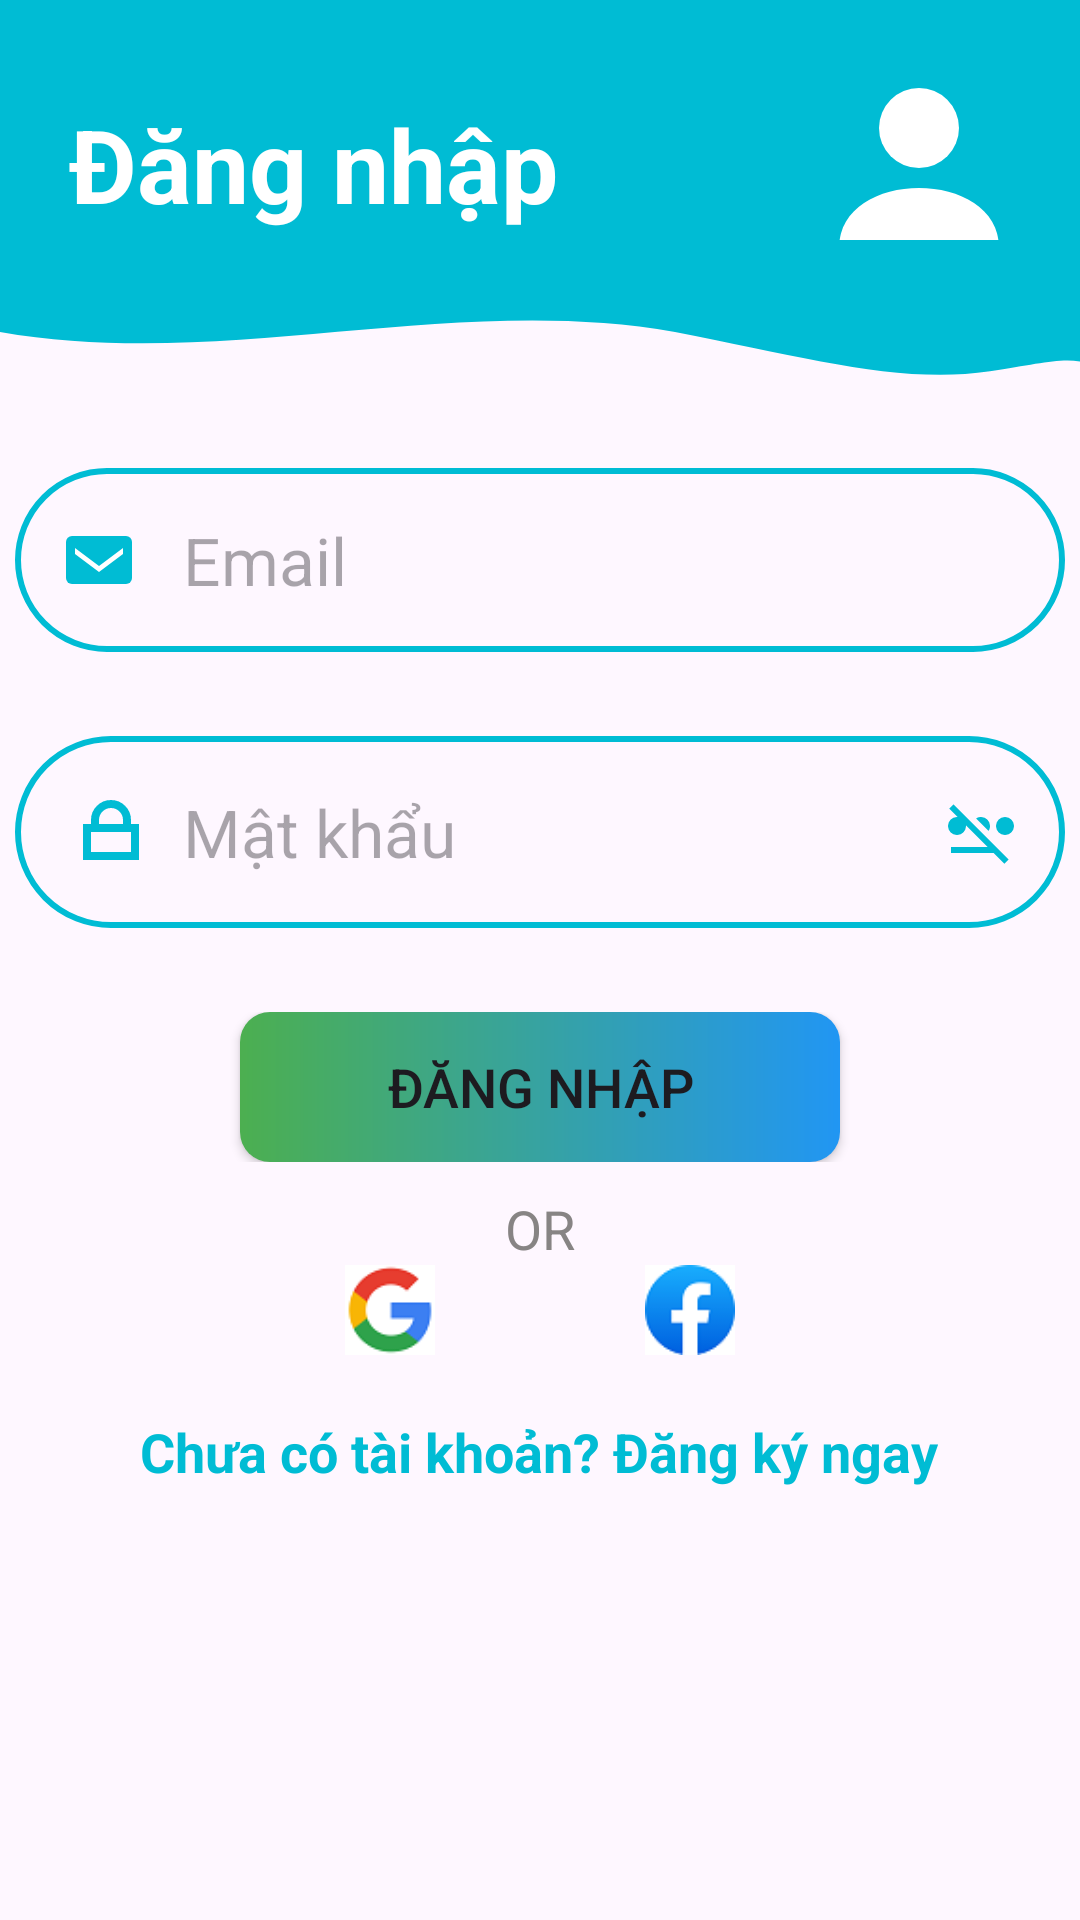

Point at icon controls on the screen. Image size 1080px x 1920px, points as [x,y].
user: [919,164]
